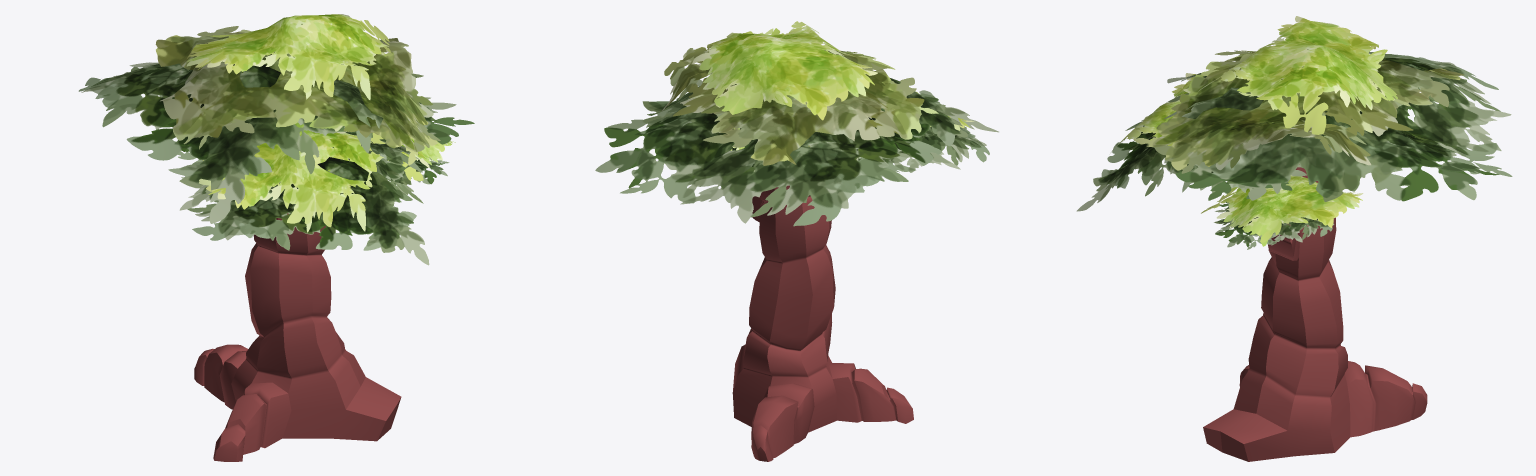
Rendered from tree_01.fbx.
The picture shows the model from 3 angles, left to right: view 1: azimuth 30°, elevation 25°; view 2: azimuth 150°, elevation 25°; view 3: azimuth 270°, elevation 25°; orthographic projection. The views are drawn at different scales.
Visible parts, largest first — view 1: pCylinder1, pPlane5, pPlane1, pPlane3, pPlane4, pPlane2, pPlane7, pPlane6; view 2: pCylinder1, pPlane1, pPlane5, pPlane4, pPlane3; view 3: pCylinder1, pPlane1, pPlane5, pPlane4, pPlane7, pPlane3, pPlane6, pPlane2.
Part boxes in pixels (x1,y1,x2,y2): pCylinder1: [194, 213, 401, 461]; pPlane5: [155, 26, 440, 165]; pPlane1: [78, 62, 474, 223]; pPlane3: [177, 127, 429, 265]; pPlane4: [186, 14, 391, 99]; pPlane2: [199, 122, 385, 232]; pPlane7: [387, 136, 455, 180]; pPlane6: [385, 157, 449, 185]; pCylinder1: [732, 185, 913, 461]; pPlane1: [595, 50, 998, 226]; pPlane5: [662, 48, 938, 165]; pPlane4: [681, 21, 877, 129]; pPlane3: [856, 127, 989, 176]; pCylinder1: [1203, 164, 1427, 461]; pPlane1: [1163, 51, 1512, 201]; pPlane5: [1133, 49, 1464, 173]; pPlane4: [1198, 16, 1397, 134]; pPlane7: [1201, 175, 1363, 246]; pPlane3: [1076, 114, 1347, 211]; pPlane6: [1214, 201, 1334, 249]; pPlane2: [1111, 73, 1202, 152].
Size of the model in its own units: 14.34 by 15.29 by 16.34.
